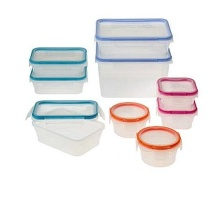plastic_box: (87, 10, 180, 100), (20, 94, 109, 160), (24, 41, 93, 100), (151, 71, 204, 132), (131, 122, 188, 171), (106, 96, 155, 141)
